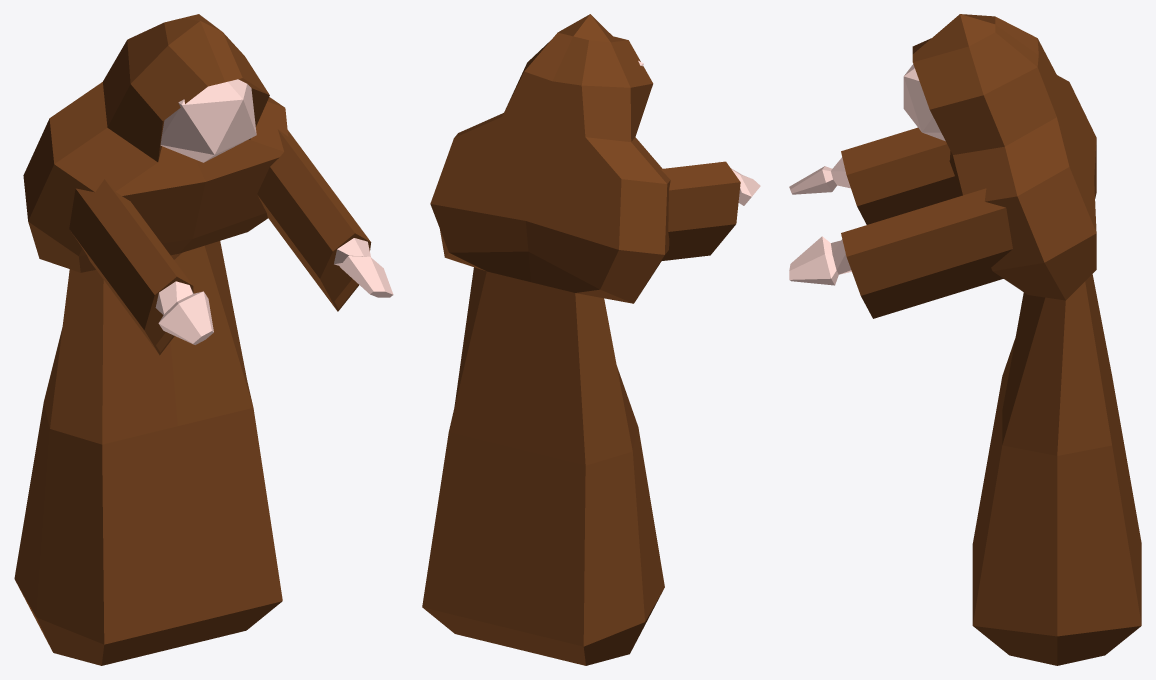
File: villager.glb
3 views of the same model, side by side, from view 1: azimuth 30°, elevation 25°; view 2: azimuth 150°, elevation 25°; view 3: azimuth 270°, elevation 25° (orthographic). The views are drawn at different scales.
Visible parts, largest first — view 1: Cube; view 2: Cube; view 3: Cube.
Part boxes in pixels (box(x1,y1,x2,y2)): Cube: box(14, 14, 393, 665); Cube: box(422, 14, 760, 665); Cube: box(789, 14, 1141, 665).
Size of the model in its own units: 1.99 by 4.84 by 2.54.
